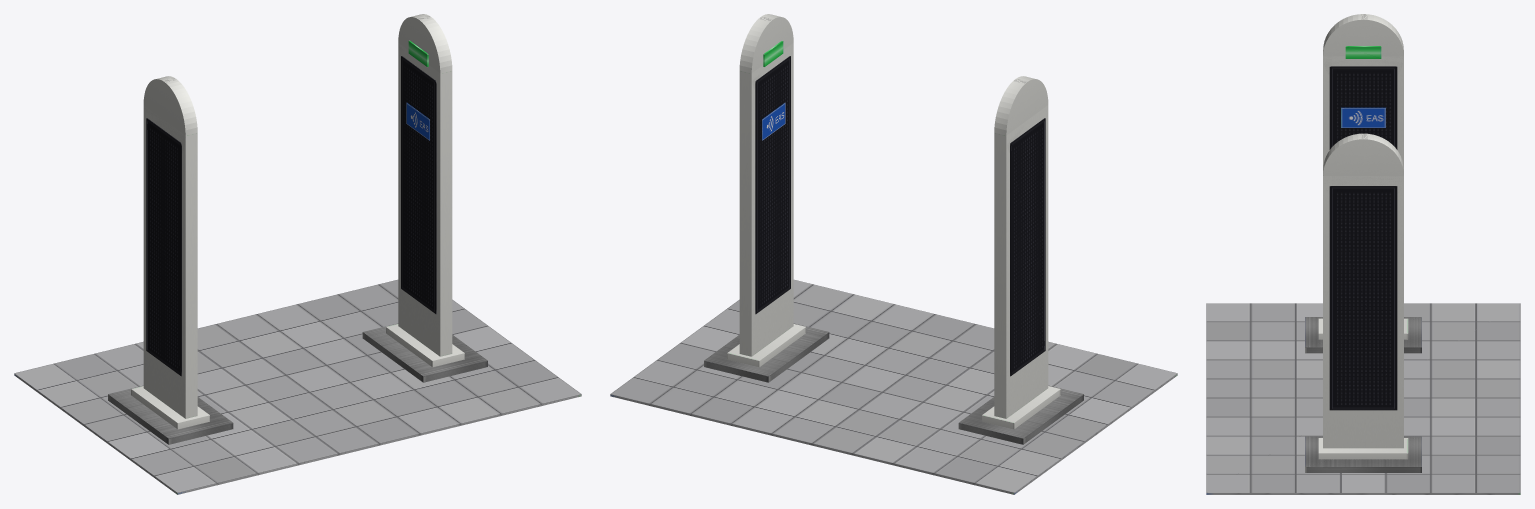
The model's file is eas_gate.obj.
The picture shows the model from 3 angles, left to right: view 1: azimuth 30°, elevation 25°; view 2: azimuth 150°, elevation 25°; view 3: azimuth 270°, elevation 25°; orthographic projection. The views are drawn at different scales.
Parts seen in each view (by area): view 1: floor, pedestal_left_body, pedestal_right_body, pedestal_left_inset, pedestal_right_inset, pedestal_left_base, pedestal_right_base, pedestal_left_foot, pedestal_right_foot; view 2: floor, pedestal_left_body, pedestal_right_body, pedestal_left_inset, pedestal_right_inset, pedestal_left_base, pedestal_right_base, pedestal_left_foot, pedestal_right_foot; view 3: floor, pedestal_right_inset, pedestal_right_body, pedestal_left_body, pedestal_left_inset, pedestal_right_base, pedestal_right_foot, pedestal_left_base, pedestal_left_logo, pedestal_left_led.
Part boxes in pixels (box(x1,y1,x2,y2)): floor: box(14, 279, 581, 494); pedestal_left_body: box(143, 76, 197, 418); pedestal_right_body: box(398, 14, 452, 356); pedestal_left_inset: box(146, 118, 181, 376); pedestal_right_inset: box(401, 56, 436, 314); pedestal_left_base: box(108, 385, 233, 444); pedestal_right_base: box(362, 323, 487, 382); pedestal_left_foot: box(131, 386, 209, 429); pedestal_right_foot: box(386, 324, 464, 367); floor: box(610, 279, 1177, 494); pedestal_left_body: box(994, 76, 1048, 418); pedestal_right_body: box(739, 14, 793, 356); pedestal_left_inset: box(1010, 118, 1045, 376); pedestal_right_inset: box(755, 56, 790, 314); pedestal_left_base: box(958, 385, 1083, 444); pedestal_right_base: box(704, 323, 829, 382); pedestal_left_foot: box(982, 386, 1060, 429); pedestal_right_foot: box(727, 324, 805, 367); floor: box(1206, 303, 1520, 494); pedestal_right_inset: box(1329, 186, 1397, 410); pedestal_right_body: box(1323, 133, 1403, 448); pedestal_left_body: box(1323, 14, 1403, 168); pedestal_left_inset: box(1329, 66, 1397, 149); pedestal_right_base: box(1305, 436, 1421, 472); pedestal_right_foot: box(1318, 438, 1408, 459); pedestal_left_base: box(1305, 317, 1421, 353); pedestal_left_logo: box(1341, 107, 1385, 127); pedestal_left_led: box(1345, 46, 1381, 58).
Bounding box in the file's own units: 2 × 1.59 × 1.4.
Materials: 6 (6 with a texture image).
